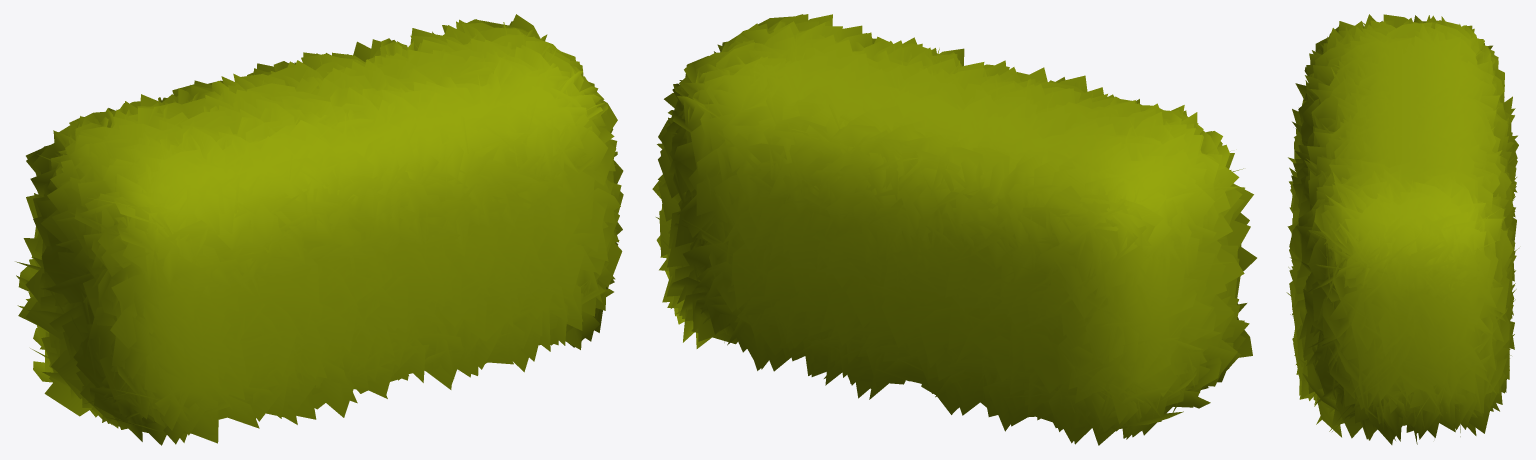
The model's file is bush.fbx.
3 views of the same model, side by side, from view 1: azimuth 30°, elevation 25°; view 2: azimuth 150°, elevation 25°; view 3: azimuth 270°, elevation 25° (orthographic). The views are drawn at different scales.
Parts seen in each view (by area): view 1: bush; view 2: bush; view 3: bush.
Part boxes in pixels (<box>): bush: <box>15,14,623,445</box>; bush: <box>652,14,1256,445</box>; bush: <box>1286,14,1518,444</box>.
Size of the model in its own units: 205 by 87.61 by 104.
